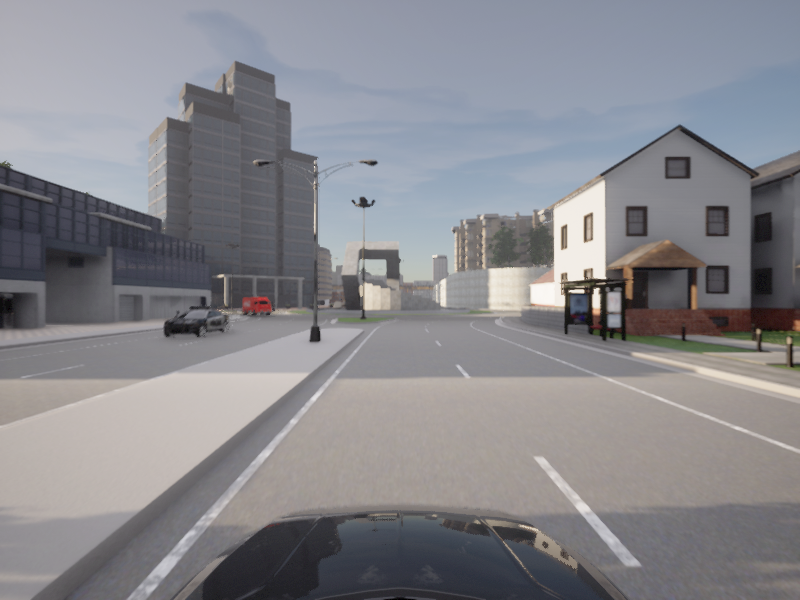vehicle: (154, 306, 233, 339)
